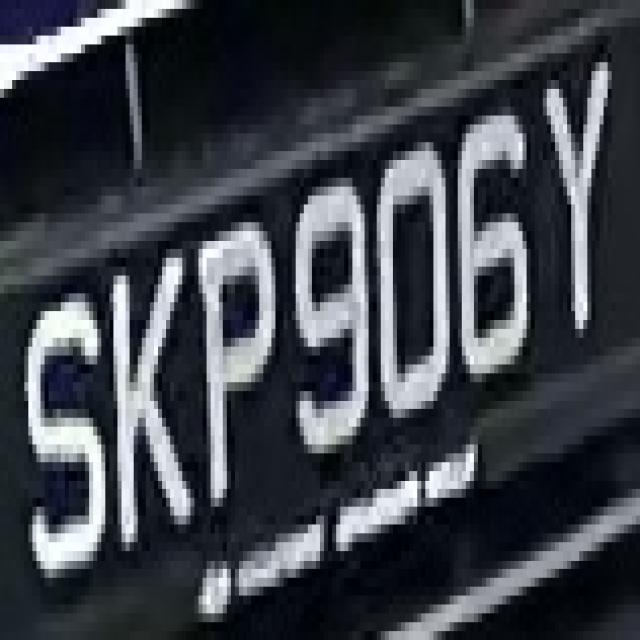0: (377, 116, 458, 453)
6: (458, 98, 538, 400)
9: (279, 169, 381, 489)
K: (102, 213, 198, 560)
P: (198, 186, 288, 524)
S: (16, 249, 110, 595)
Y: (539, 62, 624, 338)
